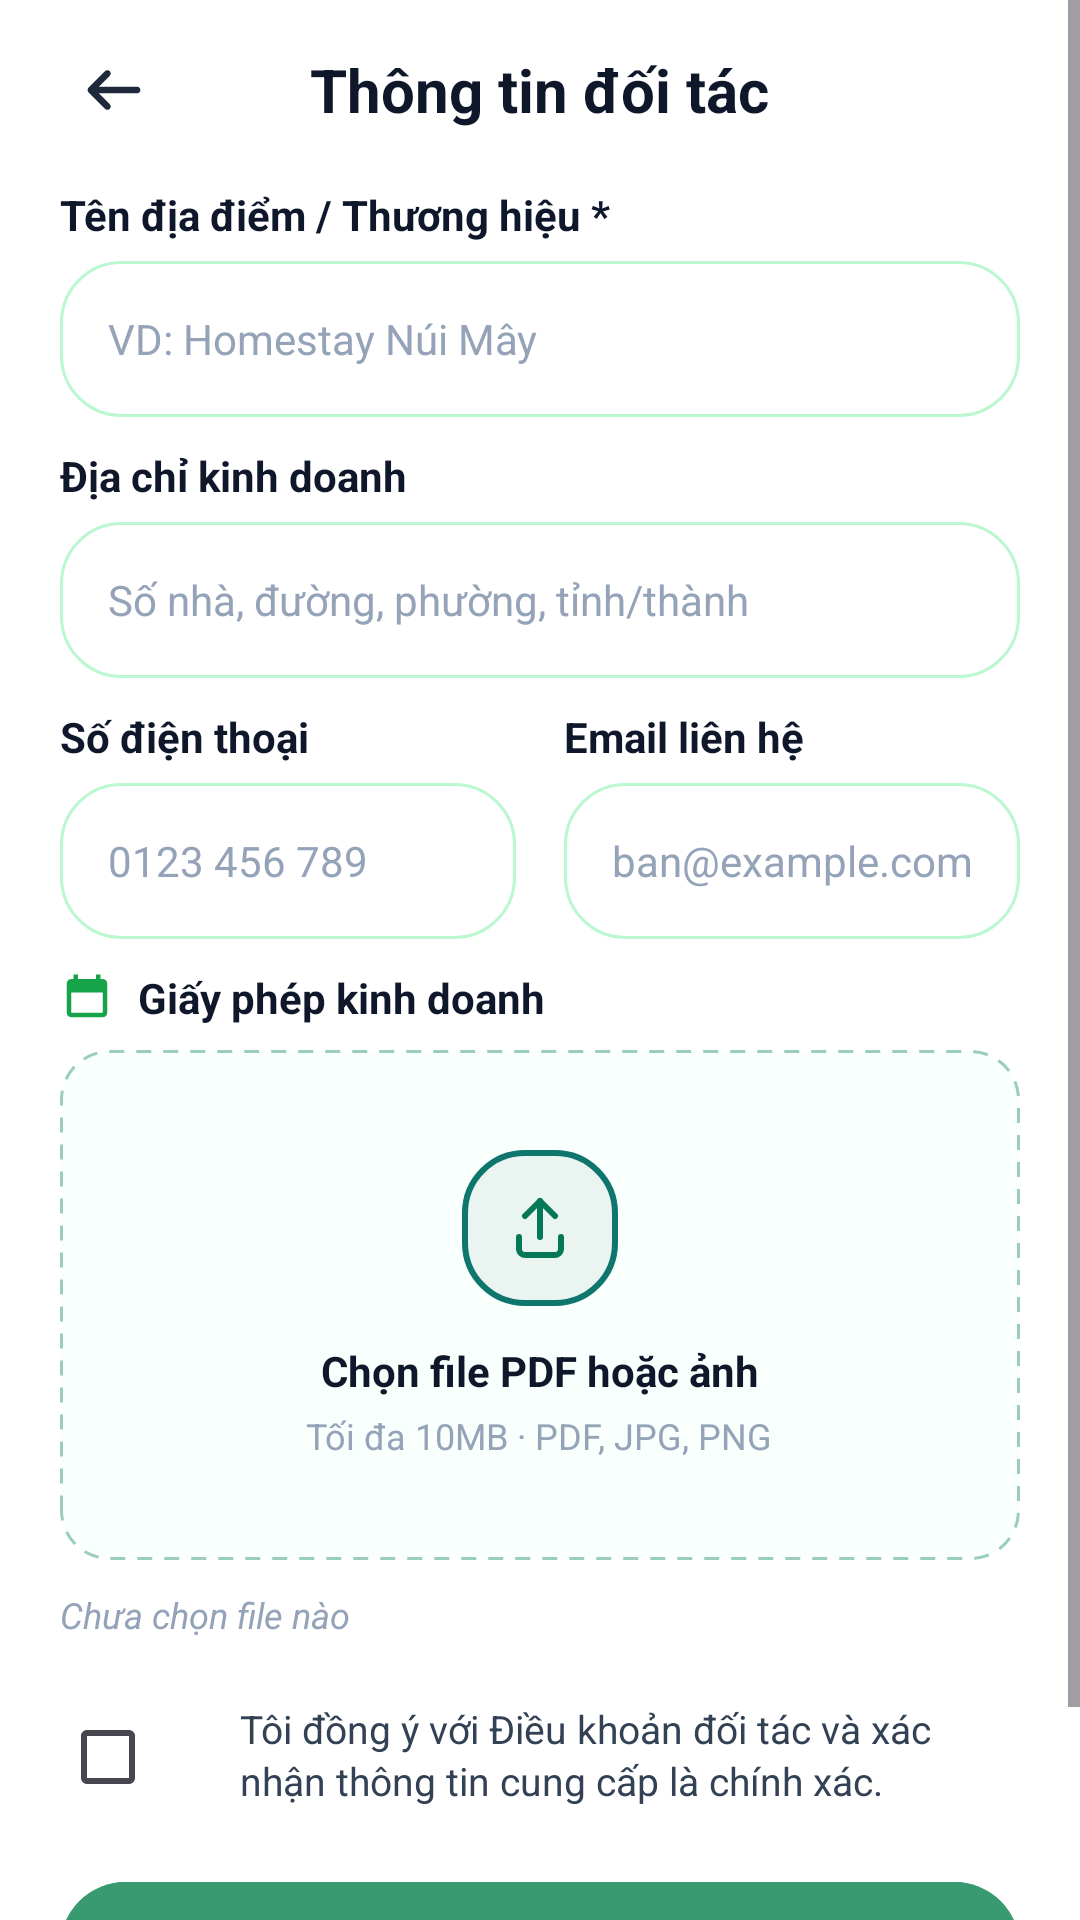

Named icons in this screenshot (1080 x 1920) and their bounding boxes, (x1, y1, x2, y2):
calendar: (66, 974, 108, 1018)
left: (87, 70, 141, 110)
upload simple: (516, 1198, 564, 1258)
